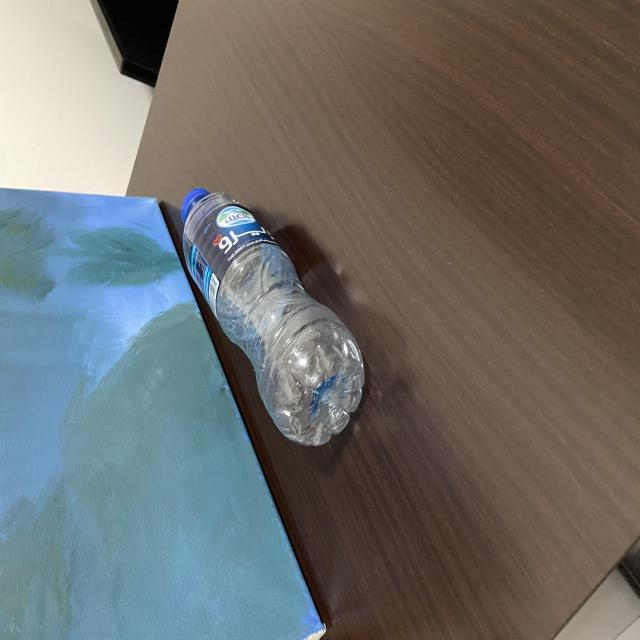plastic: (178, 186, 366, 448)
